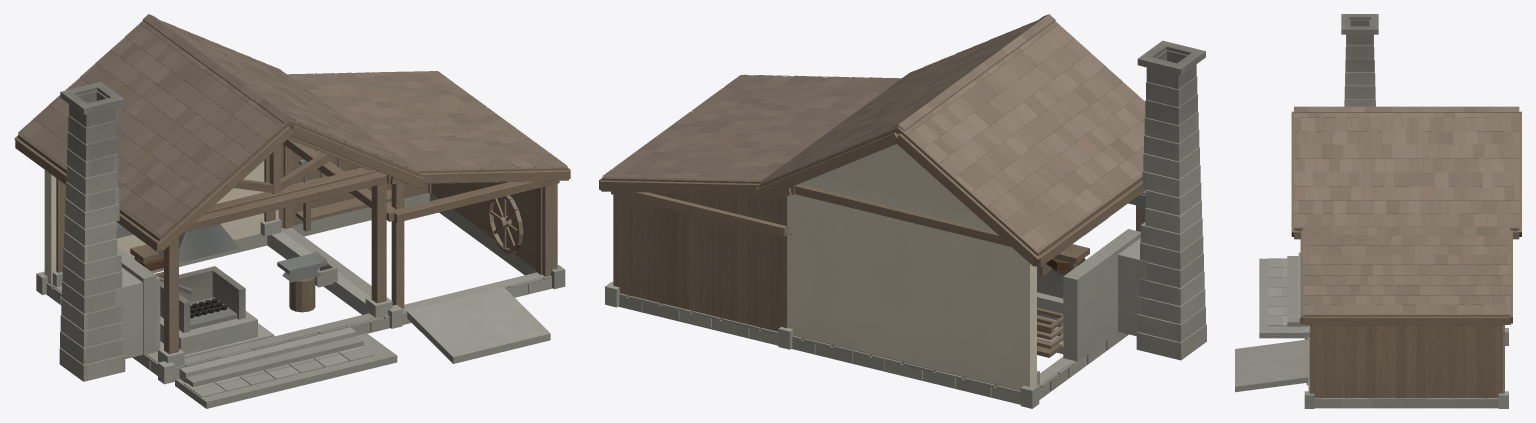
File: smithy.glb
3 views of the same model, side by side, from view 1: azimuth 30°, elevation 25°; view 2: azimuth 150°, elevation 25°; view 3: azimuth 270°, elevation 25° (orthographic). The views are drawn at different scales.
Parts seen in each view (by area): view 1: world_lowmark.forge_hall.Split oak shingle courses, world_lowmark.forge_hall.smithy.stack_courses, world_lowmark.smithy_stock_range.Split oak shingle courses, world_lowmark.forge_hall.smithy.primary_end_bent, world_lowmark.forge_hall.smithy.material_ramp, world_lowmark.forge_hall.Seasoned shingle cohorts, world_lowmark.smithy_stock_range.facade_walls, world_lowmark.forge_hall.Exposed shingle butts, world_lowmark.forge_hall.Roof edge fascia, world_lowmark.smithy_stock_range.facade_foundation_core, world_lowmark.forge_hall.facade_foundation_core, world_lowmark.forge_hall.smithy.workfront_threshold (+29 smaller); view 2: world_lowmark.forge_hall.facade_walls, world_lowmark.forge_hall.Split oak shingle courses, world_lowmark.smithy_stock_range.facade_board_skin, world_lowmark.forge_hall.smithy.stack_courses, world_lowmark.smithy_stock_range.Split oak shingle courses, world_lowmark.forge_hall.Seasoned shingle cohorts, world_lowmark.forge_hall.smithy.fire_screen, world_lowmark.forge_hall.Exposed shingle butts, world_lowmark.forge_hall.Roof edge fascia, world_lowmark.forge_hall.facade_stone, world_lowmark.smithy_stock_range.Exposed shingle butts, world_lowmark.smithy_stock_range.Seasoned shingle cohorts (+15 smaller); view 3: world_lowmark.forge_hall.Split oak shingle courses, world_lowmark.smithy_stock_range.facade_board_skin, world_lowmark.smithy_stock_range.Split oak shingle courses, world_lowmark.forge_hall.Exposed shingle butts, world_lowmark.forge_hall.Seasoned shingle cohorts, world_lowmark.forge_hall.smithy.material_ramp, world_lowmark.smithy_stock_range.Exposed shingle butts, world_lowmark.forge_hall.smithy.stack_courses, world_lowmark.smithy_stock_range.Seasoned shingle cohorts, world_lowmark.smithy_stock_range.Roof edge fascia, world_lowmark.forge_hall.Concealed roof course bedding, world_lowmark.smithy_stock_range.facade_stone (+9 smaller).
Boxes of the visible parts, <box> form: world_lowmark.forge_hall.Split oak shingle courses: <box>18,20,407,236</box>; world_lowmark.forge_hall.smithy.stack_courses: <box>59,82,125,381</box>; world_lowmark.smithy_stock_range.Split oak shingle courses: <box>287,71,562,169</box>; world_lowmark.forge_hall.smithy.primary_end_bent: <box>56,136,386,354</box>; world_lowmark.forge_hall.smithy.material_ramp: <box>406,287,550,363</box>; world_lowmark.forge_hall.Seasoned shingle cohorts: <box>18,23,392,236</box>; world_lowmark.smithy_stock_range.facade_walls: <box>278,144,556,276</box>; world_lowmark.forge_hall.Exposed shingle butts: <box>21,24,419,222</box>; world_lowmark.forge_hall.Roof edge fascia: <box>14,125,424,251</box>; world_lowmark.smithy_stock_range.facade_foundation_core: <box>281,193,552,324</box>; world_lowmark.forge_hall.facade_foundation_core: <box>46,231,389,375</box>; world_lowmark.forge_hall.smithy.workfront_threshold: <box>179,327,363,387</box>; world_lowmark.forge_hall.facade_walls: <box>787,144,1036,390</box>; world_lowmark.forge_hall.Split oak shingle courses: <box>764,20,1145,250</box>; world_lowmark.smithy_stock_range.facade_board_skin: <box>613,192,787,331</box>; world_lowmark.forge_hall.smithy.stack_courses: <box>1136,40,1206,360</box>; world_lowmark.smithy_stock_range.Split oak shingle courses: <box>602,74,901,180</box>; world_lowmark.forge_hall.Seasoned shingle cohorts: <box>760,28,1145,251</box>; world_lowmark.forge_hall.smithy.fire_screen: <box>1063,229,1147,361</box>; world_lowmark.forge_hall.Exposed shingle butts: <box>800,21,1144,248</box>; world_lowmark.forge_hall.Roof edge fascia: <box>755,132,1146,267</box>; world_lowmark.forge_hall.facade_stone: <box>792,332,1128,403</box>; world_lowmark.smithy_stock_range.Exposed shingle butts: <box>631,75,892,179</box>; world_lowmark.smithy_stock_range.Seasoned shingle cohorts: <box>632,75,868,179</box>; world_lowmark.forge_hall.Split oak shingle courses: <box>1294,112,1519,226</box>; world_lowmark.smithy_stock_range.facade_board_skin: <box>1309,325,1504,397</box>; world_lowmark.smithy_stock_range.Split oak shingle courses: <box>1303,227,1510,313</box>; world_lowmark.forge_hall.Exposed shingle butts: <box>1294,112,1519,226</box>; world_lowmark.forge_hall.Seasoned shingle cohorts: <box>1294,112,1519,226</box>; world_lowmark.forge_hall.smithy.material_ramp: <box>1235,339,1309,392</box>; world_lowmark.smithy_stock_range.Exposed shingle butts: <box>1303,227,1510,313</box>; world_lowmark.forge_hall.smithy.stack_courses: <box>1341,14,1378,106</box>; world_lowmark.smithy_stock_range.Seasoned shingle cohorts: <box>1303,227,1510,313</box>; world_lowmark.smithy_stock_range.Roof edge fascia: <box>1300,230,1512,324</box>; world_lowmark.forge_hall.Concealed roof course bedding: <box>1294,113,1519,227</box>; world_lowmark.smithy_stock_range.facade_stone: <box>1308,337,1504,407</box>.
Size of the model in its own units: 11.41 by 6.59 by 7.68.
Materials: 14 (14 with a texture image).
